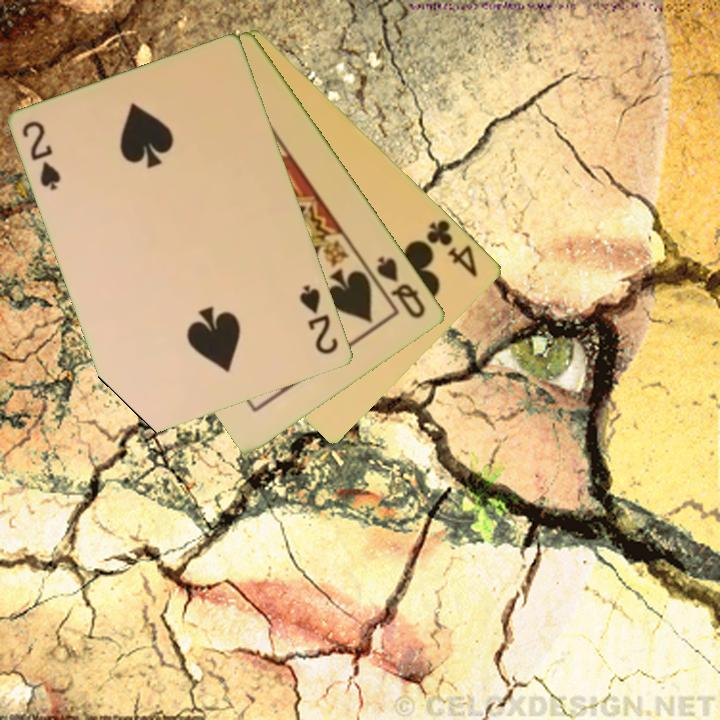2s: (296, 281, 342, 358), (19, 117, 65, 194)
4c: (423, 216, 482, 280)
Qs: (373, 252, 429, 322)
